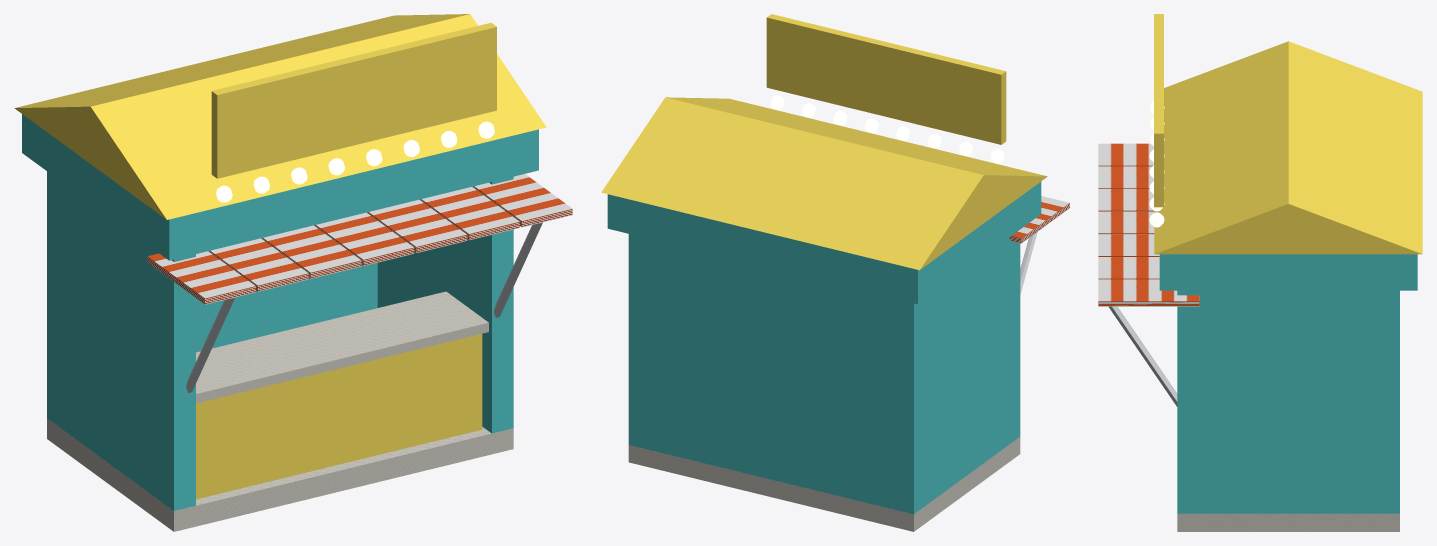
File: theme-park-rides-and-coasters-theme-park-rides-and-coa-e7ab6e10.glb
3 renders of one model, left to right at view 1: azimuth 30°, elevation 25°; view 2: azimuth 150°, elevation 25°; view 3: azimuth 270°, elevation 25°, orthographic. The views are drawn at different scales.
Visible parts, largest first — view 1: theme-park-rides-and-coasters-ring-toss-stall; view 2: theme-park-rides-and-coasters-ring-toss-stall; view 3: theme-park-rides-and-coasters-ring-toss-stall.
Boxes of the visible parts, x1,y1,x2,y2 form: theme-park-rides-and-coasters-ring-toss-stall: [14, 14, 572, 531]; theme-park-rides-and-coasters-ring-toss-stall: [601, 14, 1069, 531]; theme-park-rides-and-coasters-ring-toss-stall: [1098, 14, 1422, 531].
Size of the model in its own units: 3.8 by 4.2 by 3.21.
9 materials, 3 textured.
